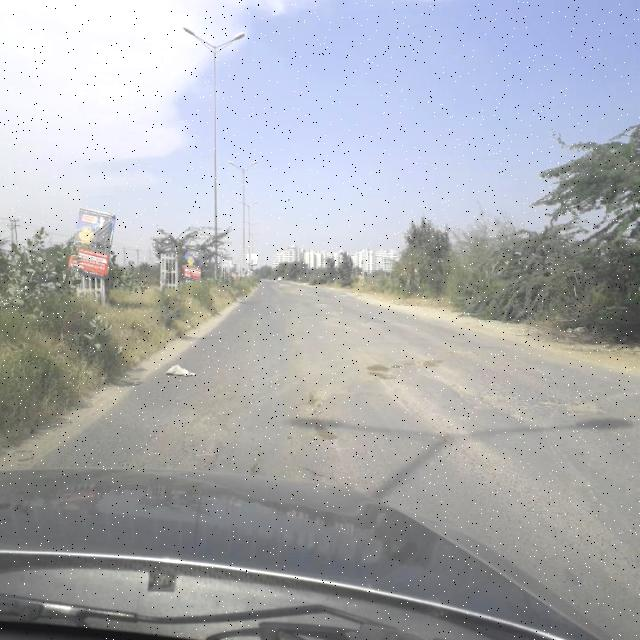D40: (124, 392, 242, 472), (441, 444, 565, 516), (473, 384, 628, 433), (302, 374, 369, 414), (314, 439, 380, 479), (402, 352, 468, 392)
